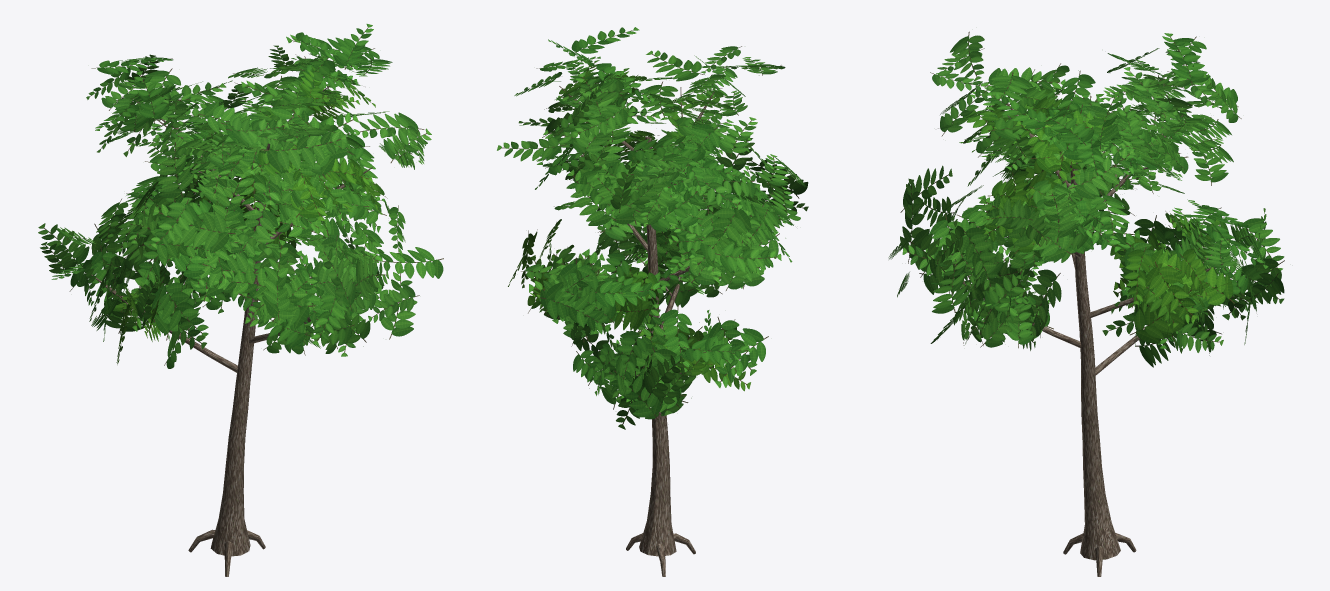
The model's file is media_b.glb.
The picture shows the model from 3 angles, left to right: view 1: azimuth 30°, elevation 25°; view 2: azimuth 150°, elevation 25°; view 3: azimuth 270°, elevation 25°; orthographic projection. The views are drawn at different scales.
Parts seen in each view (by area): view 1: media_b; view 2: media_b; view 3: media_b.
Boxes of the visible parts, x1,y1,x2,y2 form: media_b: (38, 24, 443, 576); media_b: (497, 27, 808, 576); media_b: (888, 31, 1284, 576).
Size of the model in its own units: 6.95 by 10.25 by 7.79.
Materials: 2 (2 with a texture image).
